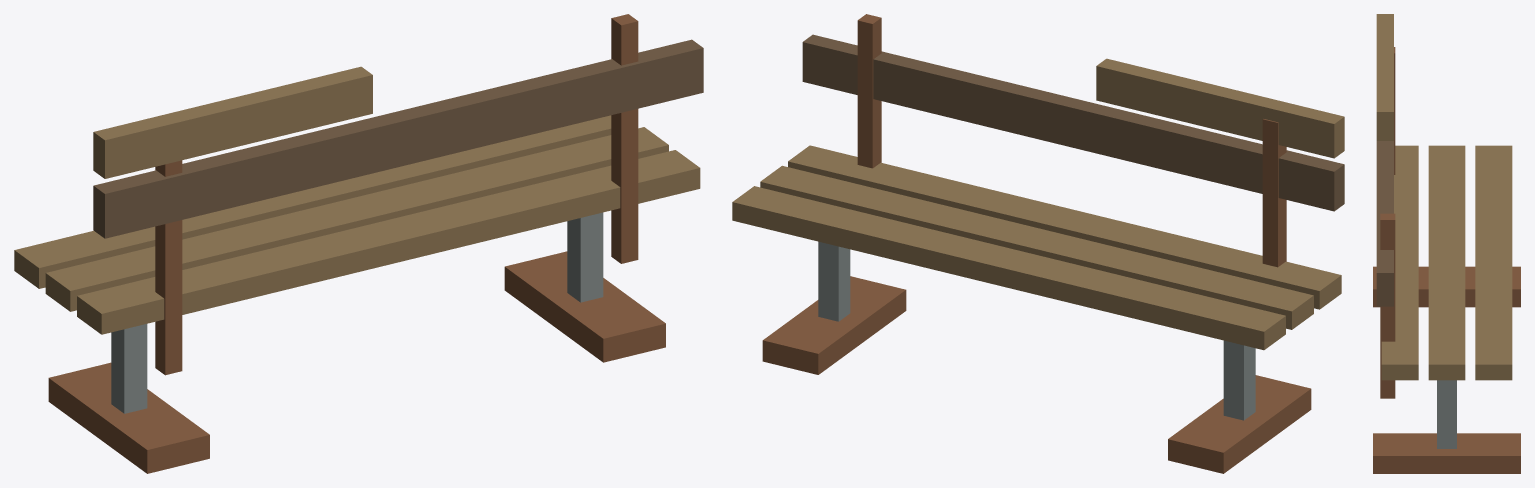
File: broken_bench.glb
3 renders of one model, left to right at view 1: azimuth 30°, elevation 25°; view 2: azimuth 150°, elevation 25°; view 3: azimuth 270°, elevation 25°, orthographic. The views are drawn at different scales.
Visible parts, largest first — view 1: broken_bench_visual; view 2: broken_bench_visual; view 3: broken_bench_visual.
Boxes of the visible parts, bbox=[...] form: broken_bench_visual: bbox=[14, 14, 703, 473]; broken_bench_visual: bbox=[732, 14, 1344, 473]; broken_bench_visual: bbox=[1373, 14, 1520, 473].
Bounding box in the file's own units: 2.1 × 1.14 × 0.6.
